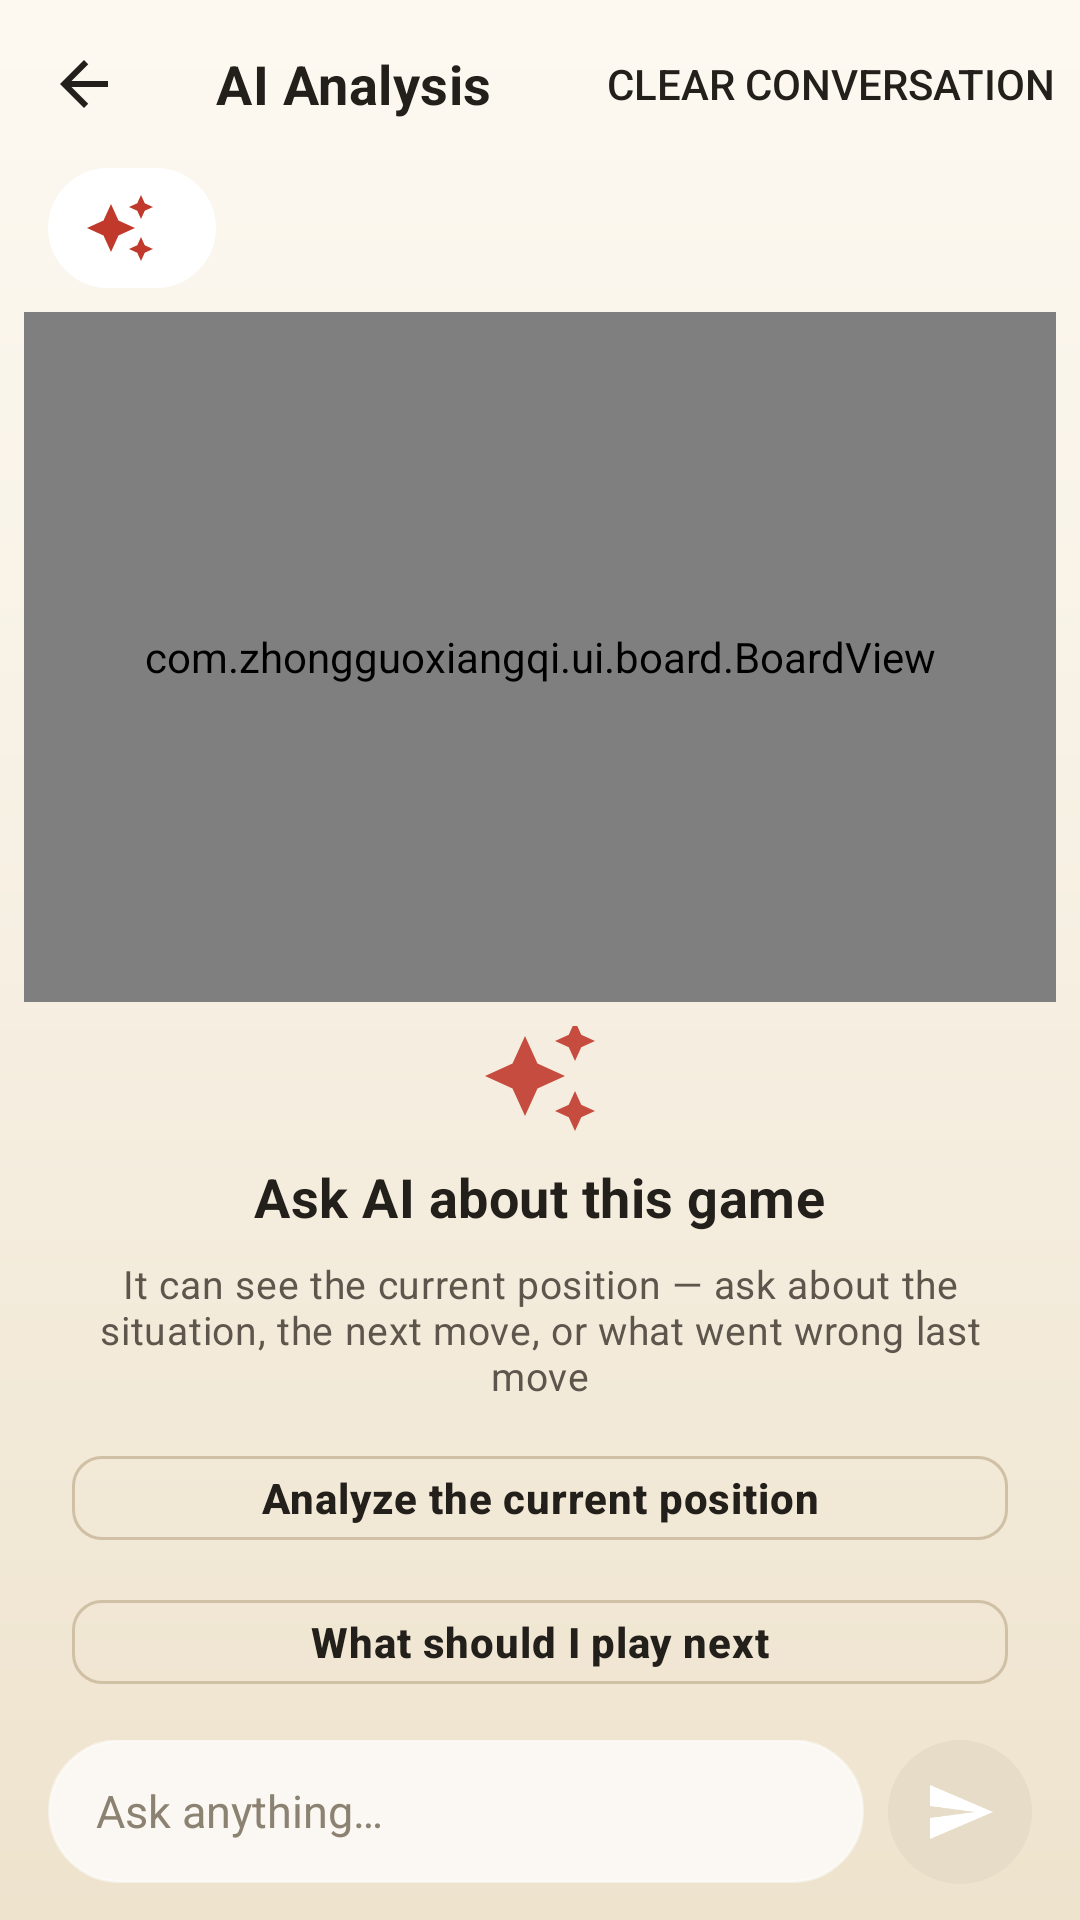

Point at icon controls on the screen. Image size 1080px×1920px, points as (x=x, y=y).
Send: (x=960, y=1812)
